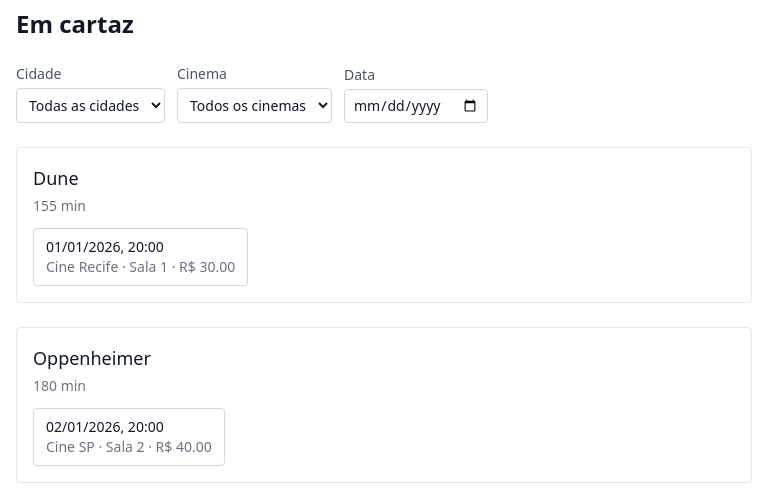
MoviesPage (integration) › filters › should refetch the catalog filtered by the selected city
Expected: the heading "Oppenheimer" is shown, [33,346,151,370]
# WHEN the user filters by Recife
Select "Recife" in the dropdown labelled "Cidade" at (90, 106), box [16,88,165,123]
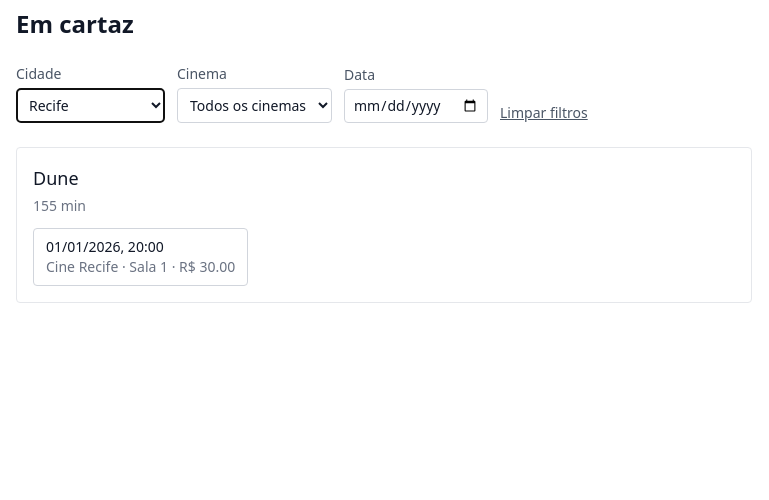
Expected: the heading "Dune" is shown, [33,166,78,190]
Result: the heading "Oppenheimer" is gone
